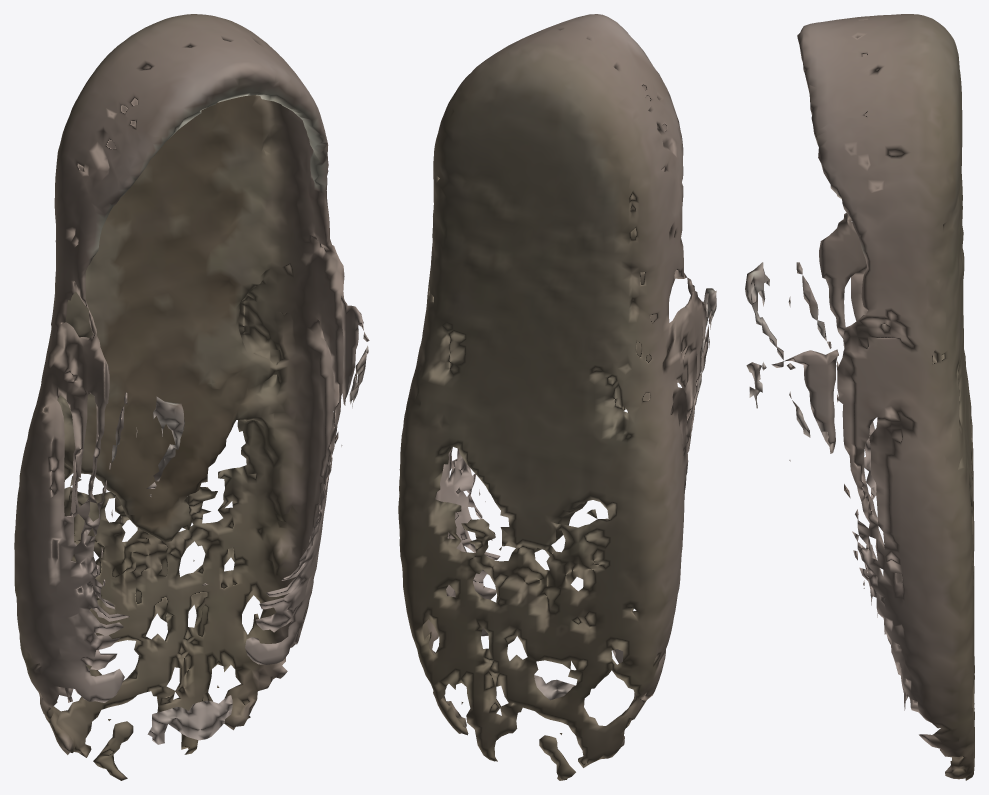
File: shoe3.glb
3 views of the same model, side by side, from view 1: azimuth 30°, elevation 25°; view 2: azimuth 150°, elevation 25°; view 3: azimuth 270°, elevation 25° (orthographic). The views are drawn at different scales.
Bounding box in the file's own units: 0.3995 × 0.9987 × 0.279.
